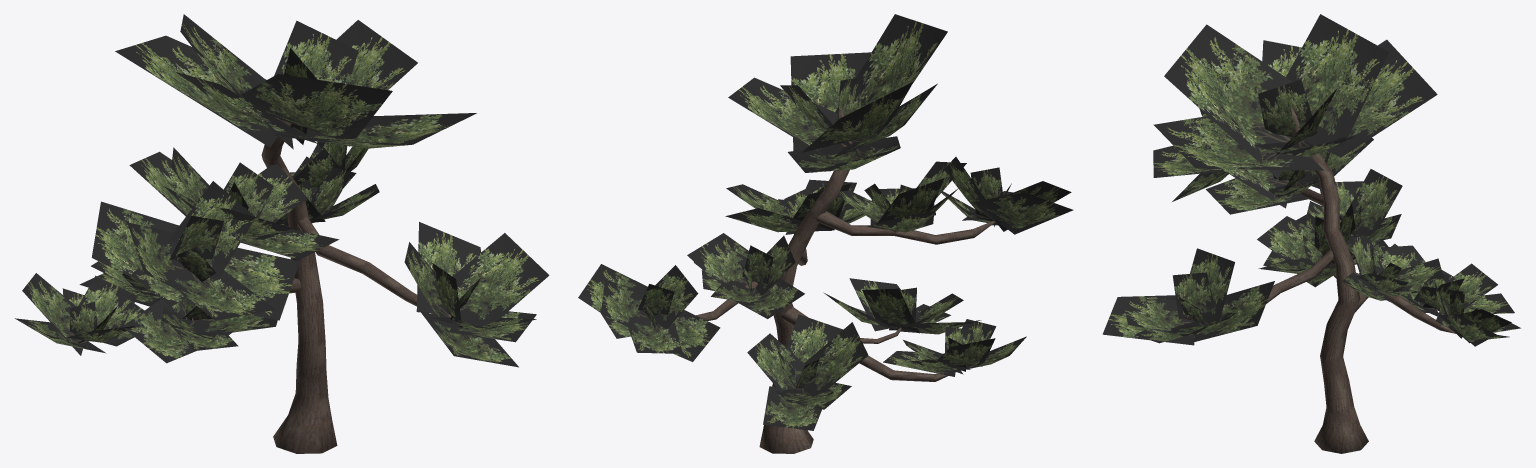
The model's file is Pinetree01.fbx.
The picture shows the model from 3 angles, left to right: view 1: azimuth 30°, elevation 25°; view 2: azimuth 150°, elevation 25°; view 3: azimuth 270°, elevation 25°; orthographic projection. The views are drawn at different scales.
Visible parts, largest first — view 1: PineTree01; view 2: PineTree01; view 3: PineTree01.
Boxes of the visible parts, x1,y1,x2,y2 form: PineTree01: [15, 14, 549, 453]; PineTree01: [578, 14, 1073, 453]; PineTree01: [1102, 14, 1520, 453].
Bounding box in the file's own units: 950 × 960 × 975.
